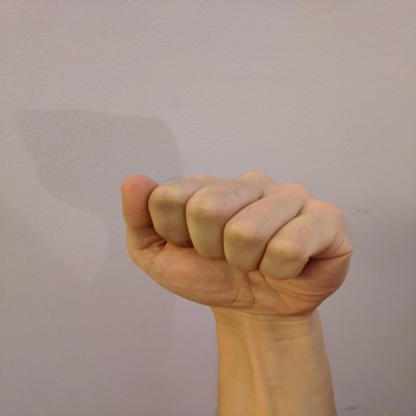A: (113, 165, 362, 322)
